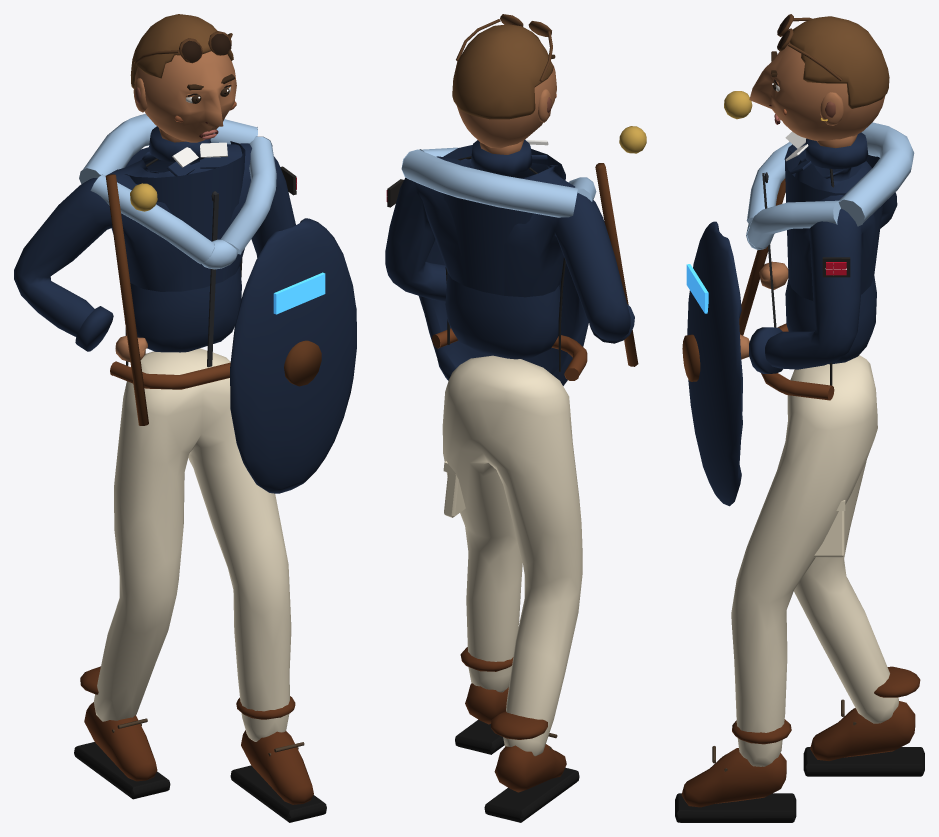
The model's file is enhed_hellerup.glb.
3 renders of one model, left to right at view 1: azimuth 30°, elevation 25°; view 2: azimuth 150°, elevation 25°; view 3: azimuth 270°, elevation 25°, orthographic. The views are drawn at different scales.
Visible parts, largest first — view 1: krop_net; view 2: krop_net; view 3: krop_net.
Boxes of the visible parts, x1,y1,x2,y2 form: krop_net: [14, 14, 356, 822]; krop_net: [385, 14, 646, 822]; krop_net: [675, 14, 924, 822].
Bounding box in the file's own units: 0.8162 × 2.14 × 0.6301.
